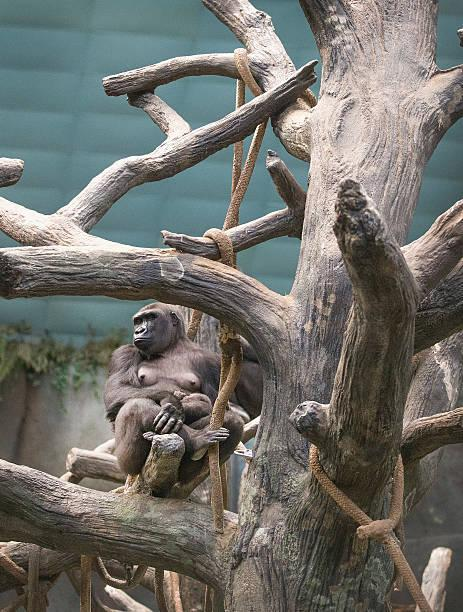gorille_Autres: (90, 282, 264, 527)
